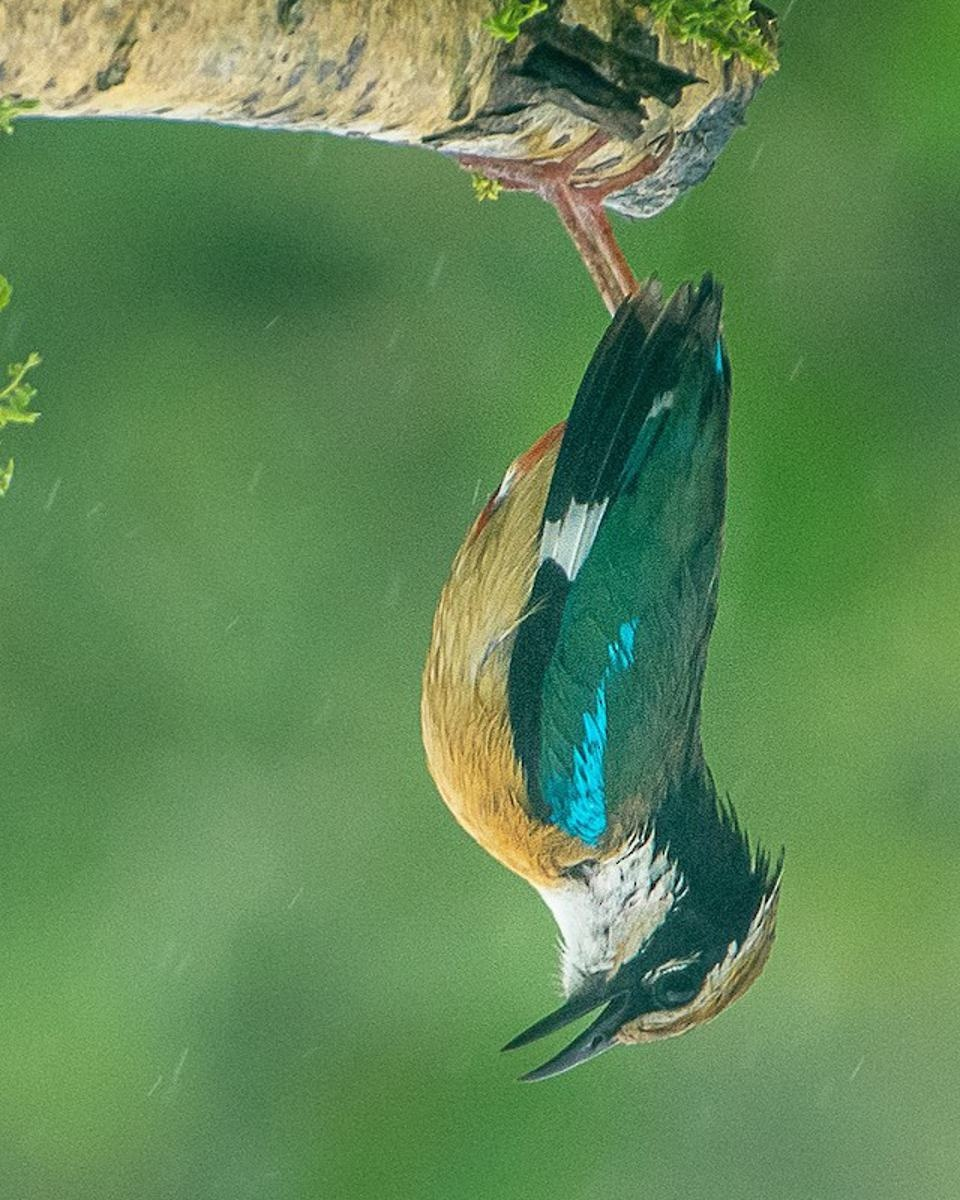pitta: (461, 189, 779, 1108)
